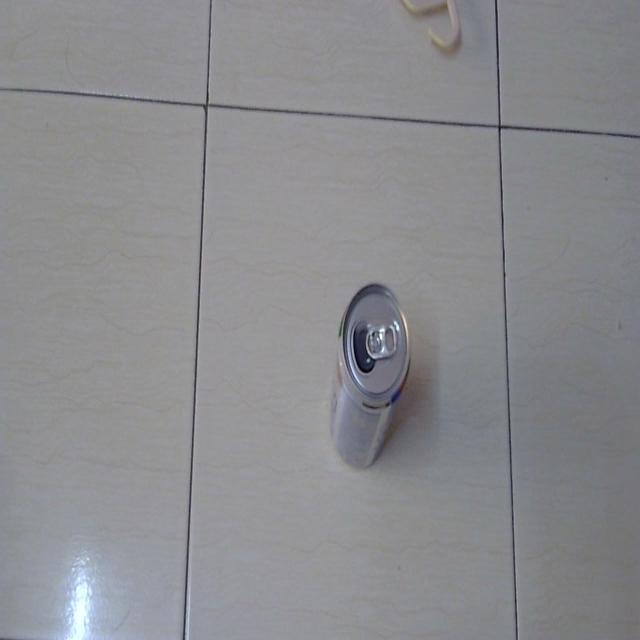metal_standrotation: (330, 274, 410, 474)
